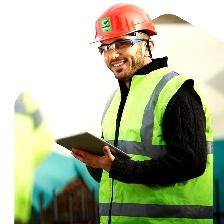Person: (92, 2, 214, 224)
helmet: (94, 5, 159, 44)
vest: (92, 70, 215, 224)
